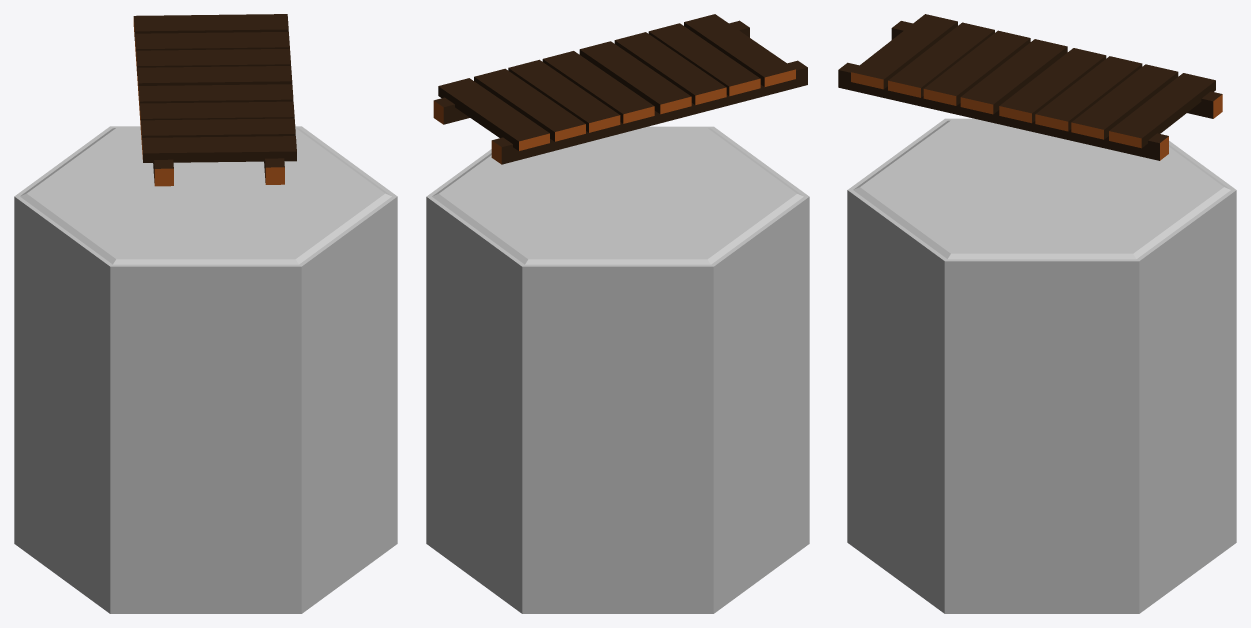
File: HEXbridge.obj
3 views of the same model, side by side, from view 1: azimuth 30°, elevation 25°; view 2: azimuth 150°, elevation 25°; view 3: azimuth 270°, elevation 25° (orthographic).
Visible parts, largest first — view 1: Cylinder.016_Cylinder.017, Cube.015_Cube; view 2: Cylinder.016_Cylinder.017, Cube.015_Cube; view 3: Cylinder.016_Cylinder.017, Cube.015_Cube.
Part boxes in pixels (x1,y1,x2,y2): Cylinder.016_Cylinder.017: (14, 126, 397, 613); Cube.015_Cube: (133, 14, 296, 186); Cylinder.016_Cylinder.017: (426, 126, 809, 613); Cube.015_Cube: (433, 14, 807, 164); Cylinder.016_Cylinder.017: (847, 118, 1236, 613); Cube.015_Cube: (838, 14, 1222, 160).
Bounding box in the file's own units: 2.3 × 3.53 × 2.72.
